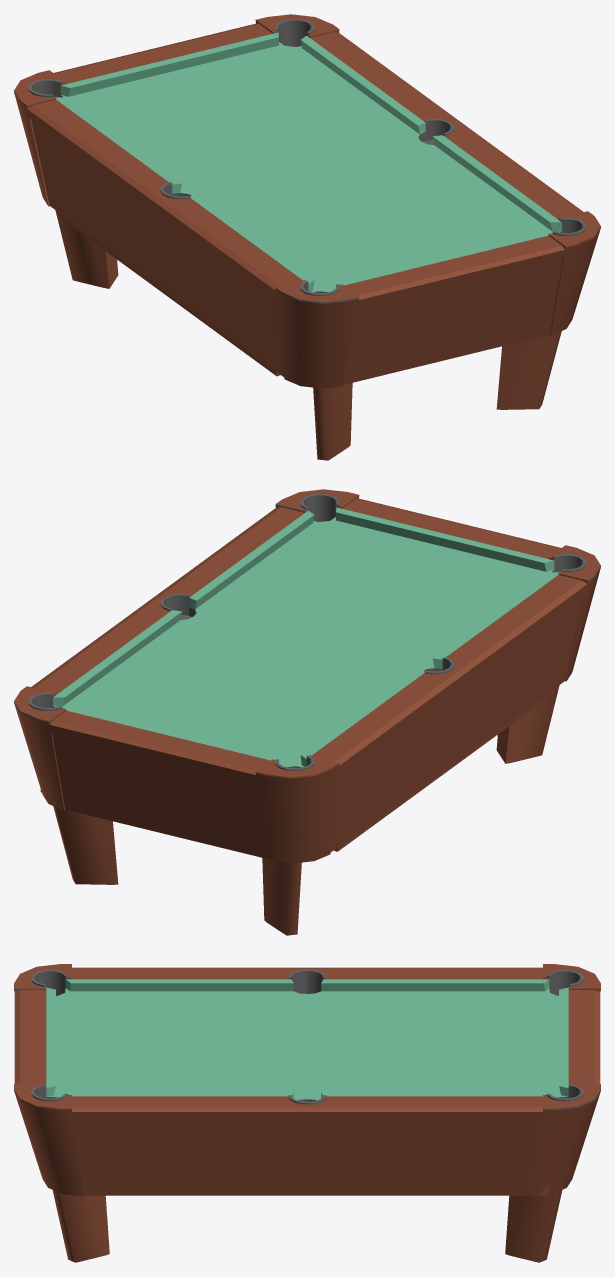
Rendered from Table2.glb.
3 views of the same model, one above another, from view 1: azimuth 30°, elevation 25°; view 2: azimuth 150°, elevation 25°; view 3: azimuth 270°, elevation 25° (orthographic). The views are drawn at different scales.
Visible parts, largest first — view 1: pool.obj 1; view 2: pool.obj 1; view 3: pool.obj 1.
Part boxes in pixels (x1,y1,x2,y2): pool.obj 1: (14, 14, 600, 460); pool.obj 1: (14, 489, 600, 935); pool.obj 1: (14, 964, 600, 1262).
Bounding box in the file's own units: 6.63 × 3.76 × 11.38.
